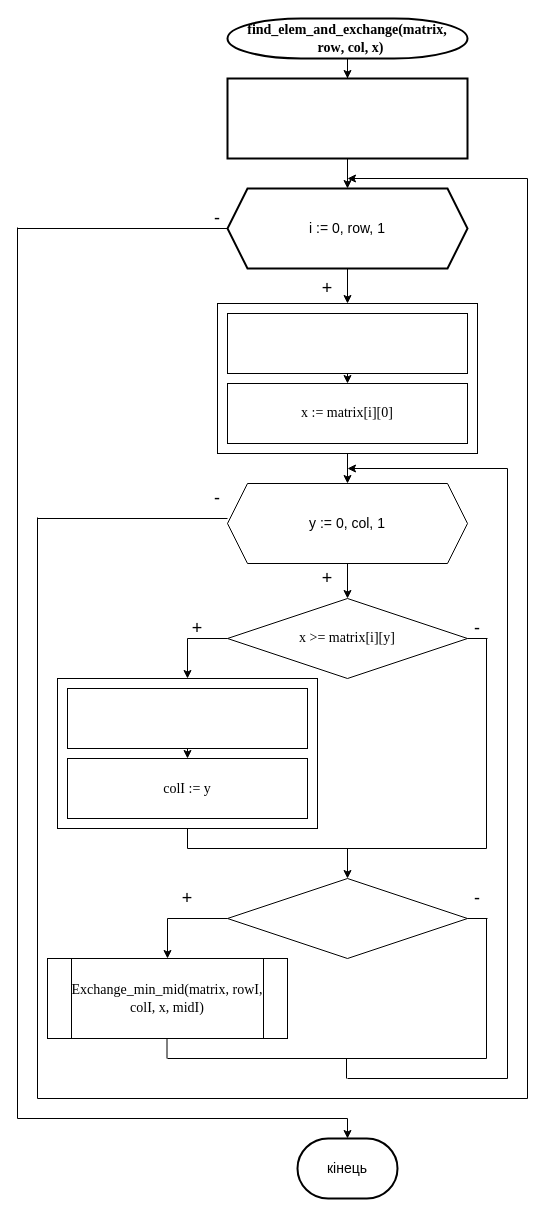
The diagram is 553 pixels wide and 1216 high, and some of its shapes have lost their labels. The centre of each missing label's shape, as x and y in pixels:
"colI != row / 2 або colI != row / 2 + 1" belongs at (x=347, y=918).
"midI : = row / 2" belongs at (x=347, y=118).
"rowI := i" belongs at (x=347, y=343).
"x : = matrix[i][y]" belongs at (x=187, y=718).
